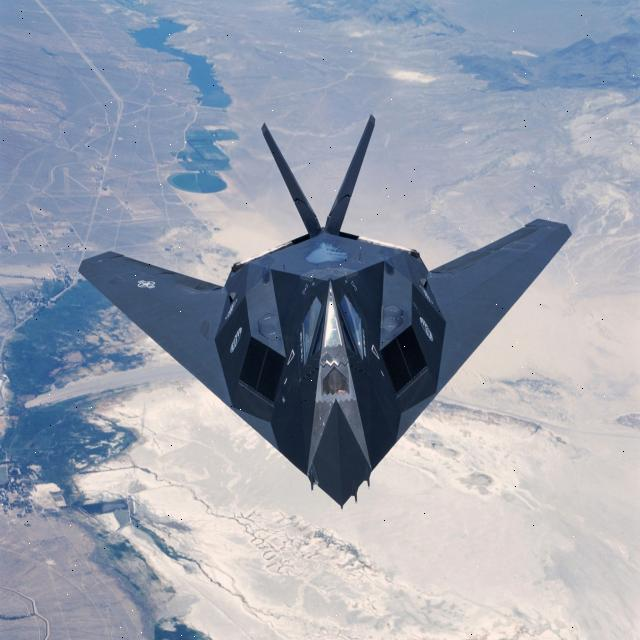F117: (42, 105, 580, 544)
